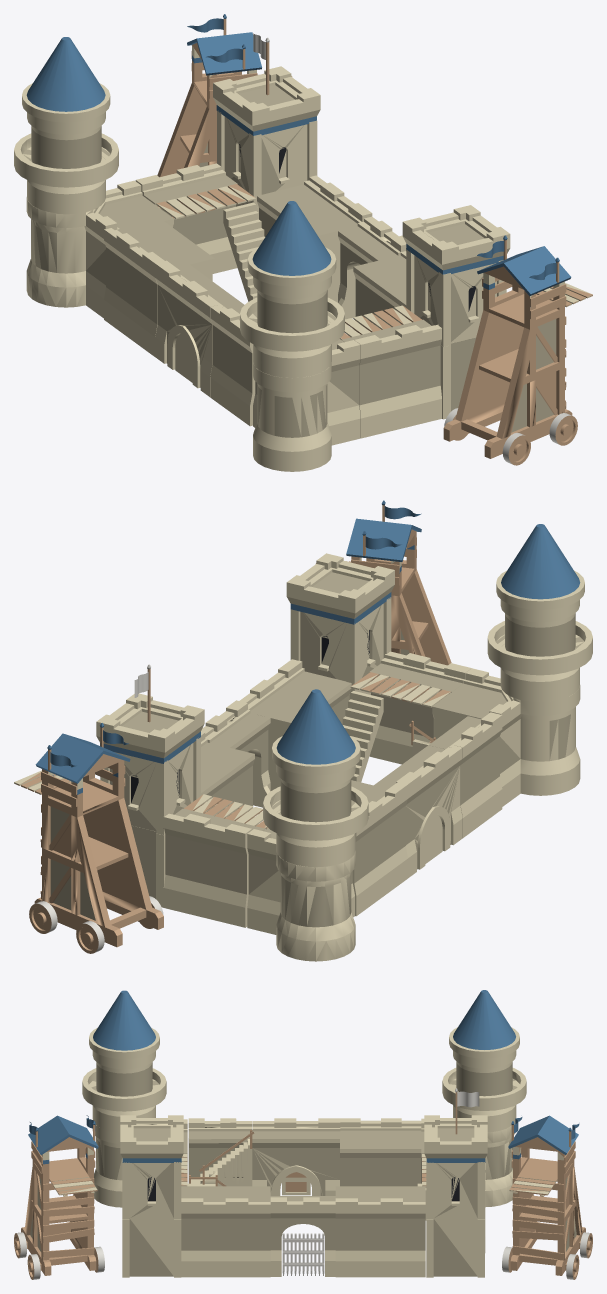
The model's file is 6level.obj.
3 renders of one model, top to bottom at view 1: azimuth 30°, elevation 25°; view 2: azimuth 150°, elevation 25°; view 3: azimuth 270°, elevation 25°, orthographic. The views are drawn at different scales.
Visible parts, largest first — view 1: siegeTower.002, wallCornerHalfTower.007_wallCornerHalfTower.011, wallNarrowWood.007_wallNarrowWood.016, wallCornerHalfTower.006_wallCornerHalfTower.010, towerBalcony.006_towerBalcony.010, towerBalcony.007_towerBalcony.011, wallHalf.012_wallHalf.025, siegeTower.003, wallNarrowWood.008_wallNarrowWood.017, wallDoor.002, towerSquareMidWindows.024_towerSquareMidWindows.048, towerSquareTopColor.018_towerSquareTopColor.033 (+11 smaller); view 2: siegeTower.003, wallCornerHalfTower.006_wallCornerHalfTower.010, wallCornerHalfTower.007_wallCornerHalfTower.011, wallNarrowWood.008_wallNarrowWood.017, towerBalcony.007_towerBalcony.011, towerBalcony.006_towerBalcony.010, siegeTower.002, wallNarrowWood.007_wallNarrowWood.016, towerSquareMidWindows.015_towerSquareMidWindows.047, wallDoor.002, wallHalf.012_wallHalf.025, towerSquareTopColor.009_towerSquareTopColor.032 (+11 smaller); view 3: siegeTower.002, siegeTower.003, wallHalf.011_wallHalf.024, wallHalf.001_wallHalf.005_wallHalf.001_wallHalf.010, wallDoor.002, wallHalf.012_wallHalf.025, towerBalcony.007_towerBalcony.011, towerBalcony.006_towerBalcony.010, wallNarrowStairsFence.002, towerSquareMid.036_towerSquareMid.047, towerSquareMid.010_towerSquareMid.005_towerSquareMid.010_towerSq, towerSquareMidWindows.015_towerSquareMidWindows.047 (+11 smaller).
Boxes of the visible parts, bbox=[...] form: siegeTower.002: bbox=[443, 235, 592, 465]; wallCornerHalfTower.007_wallCornerHalfTower.011: bbox=[253, 339, 360, 471]; wallNarrowWood.007_wallNarrowWood.016: bbox=[340, 305, 441, 438]; wallCornerHalfTower.006_wallCornerHalfTower.010: bbox=[26, 180, 173, 318]; towerBalcony.006_towerBalcony.010: bbox=[14, 112, 118, 214]; towerBalcony.007_towerBalcony.011: bbox=[240, 276, 344, 377]; wallHalf.012_wallHalf.025: bbox=[104, 221, 214, 356]; siegeTower.003: bbox=[157, 14, 292, 177]; wallNarrowWood.008_wallNarrowWood.017: bbox=[135, 163, 256, 273]; wallDoor.002: bbox=[155, 260, 243, 396]; towerSquareMidWindows.024_towerSquareMidWindows.048: bbox=[217, 110, 317, 207]; towerSquareTopColor.018_towerSquareTopColor.033: bbox=[213, 66, 320, 135]; siegeTower.003: bbox=[14, 723, 163, 953]; wallCornerHalfTower.006_wallCornerHalfTower.010: bbox=[247, 828, 355, 961]; wallCornerHalfTower.007_wallCornerHalfTower.011: bbox=[432, 668, 580, 806]; wallNarrowWood.008_wallNarrowWood.017: bbox=[163, 794, 267, 927]; towerBalcony.007_towerBalcony.011: bbox=[487, 599, 592, 702]; towerBalcony.006_towerBalcony.010: bbox=[263, 765, 368, 867]; siegeTower.002: bbox=[316, 500, 451, 665]; wallNarrowWood.007_wallNarrowWood.016: bbox=[350, 651, 471, 764]; towerSquareMidWindows.015_towerSquareMidWindows.047: bbox=[290, 597, 391, 694]; wallDoor.002: bbox=[373, 745, 462, 878]; wallHalf.012_wallHalf.025: bbox=[351, 780, 407, 916]; towerSquareTopColor.009_towerSquareTopColor.032: bbox=[286, 553, 394, 624]; siegeTower.002: bbox=[14, 1115, 104, 1279]; siegeTower.003: bbox=[502, 1115, 592, 1279]; wallHalf.011_wallHalf.024: bbox=[335, 1186, 425, 1277]; wallHalf.001_wallHalf.005_wallHalf.001_wallHalf.010: bbox=[181, 1186, 270, 1277]; wallDoor.002: bbox=[252, 1118, 340, 1195]; wallHalf.012_wallHalf.025: bbox=[340, 1118, 422, 1186]; towerBalcony.007_towerBalcony.011: bbox=[82, 1051, 166, 1132]; towerBalcony.006_towerBalcony.010: bbox=[442, 1050, 526, 1132]; wallNarrowStairsFence.002: bbox=[188, 1118, 254, 1186]; towerSquareMid.036_towerSquareMid.047: bbox=[122, 1218, 181, 1277]; towerSquareMid.010_towerSquareMid.005_towerSquareMid.010_towerSq: bbox=[426, 1218, 484, 1277]; towerSquareMidWindows.015_towerSquareMidWindows.047: bbox=[122, 1158, 181, 1219].
Bounding box in the file's own units: 44.9 × 35.27 × 91.49.
